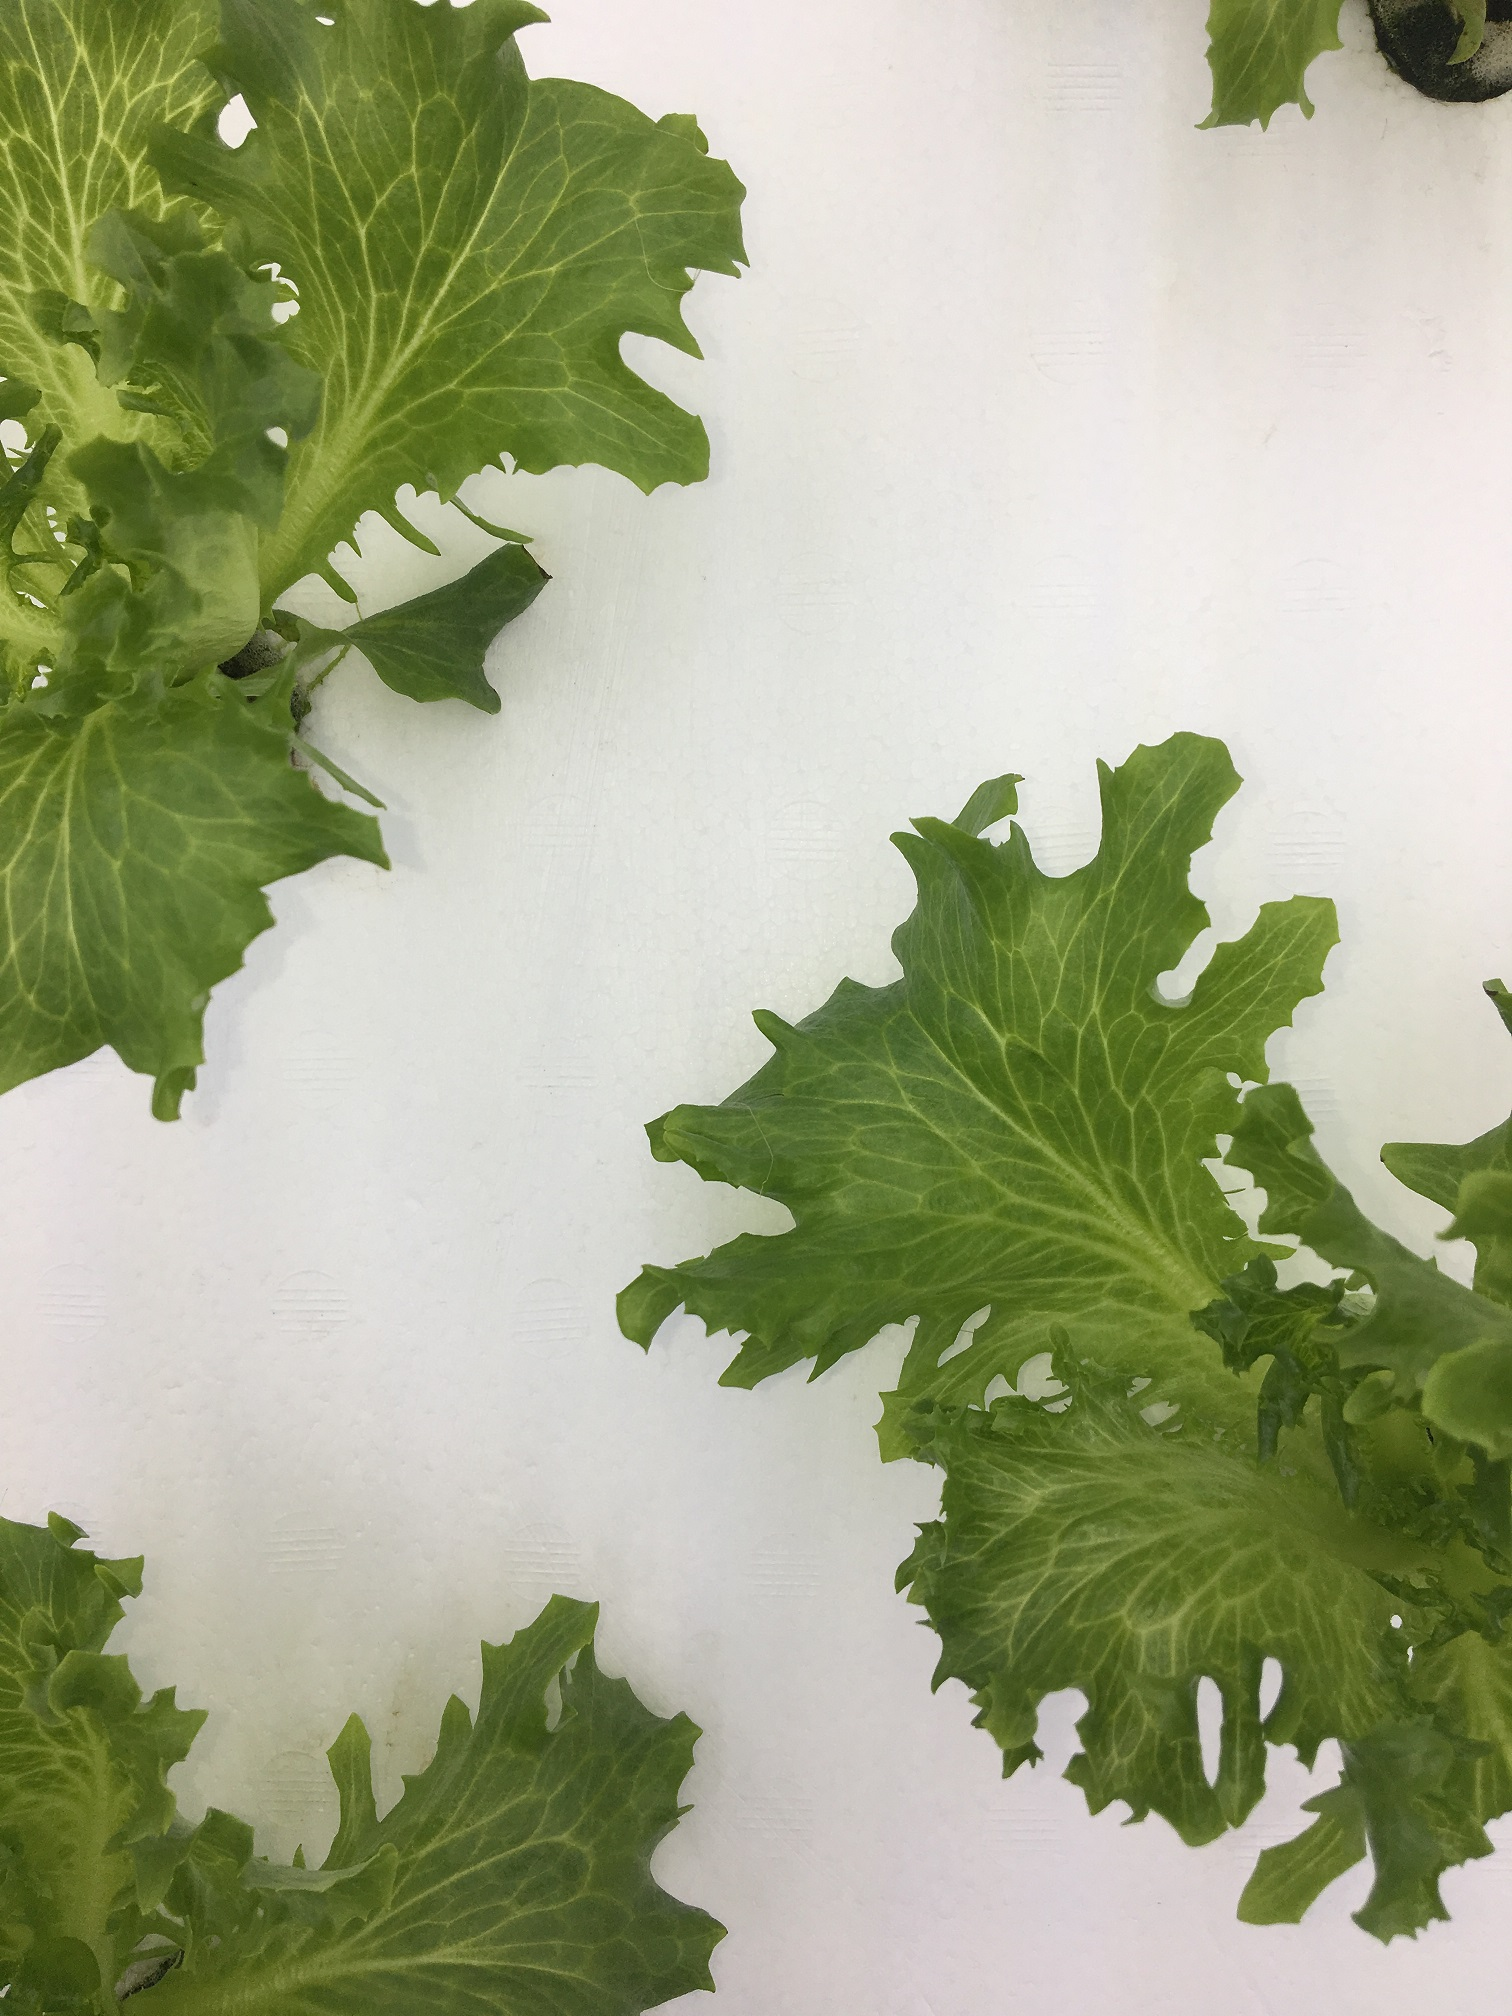tipburn: (530, 549, 570, 594), (508, 529, 542, 562), (1375, 1140, 1399, 1167)
